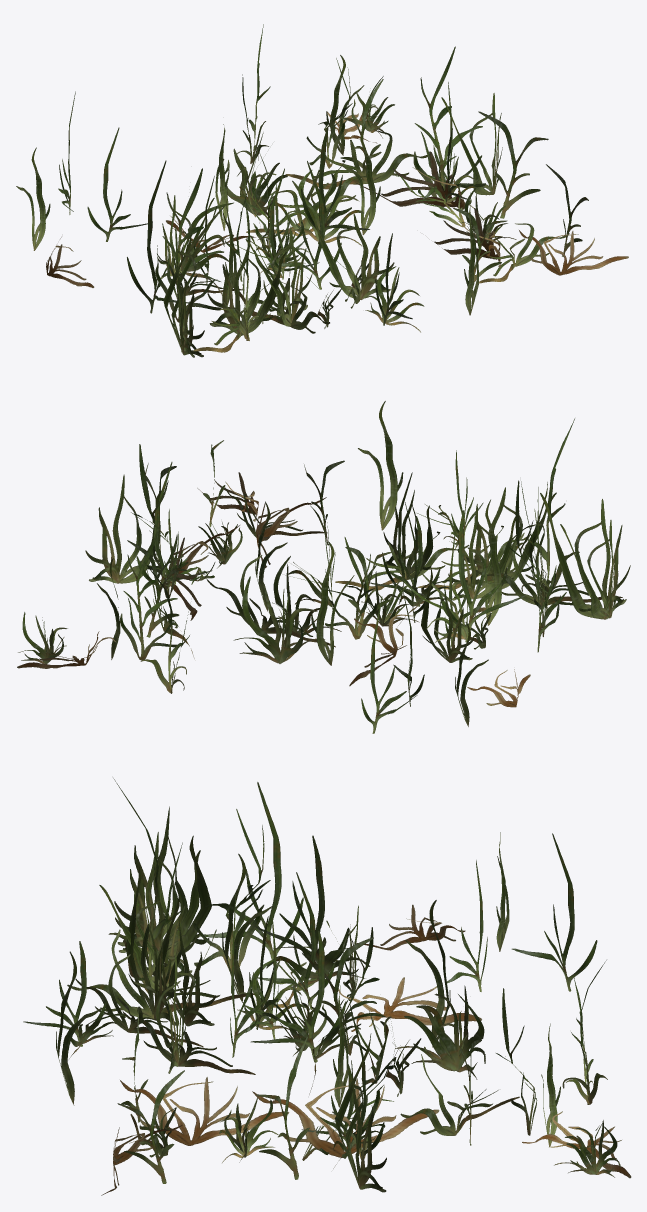
Rendered from subbosque.glb.
The picture shows the model from 3 angles, top to bottom: view 1: azimuth 30°, elevation 25°; view 2: azimuth 150°, elevation 25°; view 3: azimuth 270°, elevation 25°; orthographic projection. The views are drawn at different scales.
Parts seen in each view (by area): view 1: grass_cluster_0, grass_cluster_1, grass_cluster_2; view 2: grass_cluster_2, grass_cluster_1, grass_cluster_0; view 3: grass_cluster_1, grass_cluster_2, grass_cluster_0.
Boxes of the visible parts, x1,y1,x2,y2 form: grass_cluster_0: (46, 24, 569, 352); grass_cluster_1: (180, 55, 588, 333); grass_cluster_2: (16, 76, 628, 357); grass_cluster_2: (18, 401, 630, 726); grass_cluster_1: (85, 440, 556, 659); grass_cluster_0: (17, 444, 622, 733); grass_cluster_1: (67, 835, 560, 1192); grass_cluster_2: (23, 778, 620, 1195); grass_cluster_0: (75, 782, 631, 1178).
Size of the model in its own units: 0.5663 by 0.2197 by 0.5512.
1 material, 1 textured.
